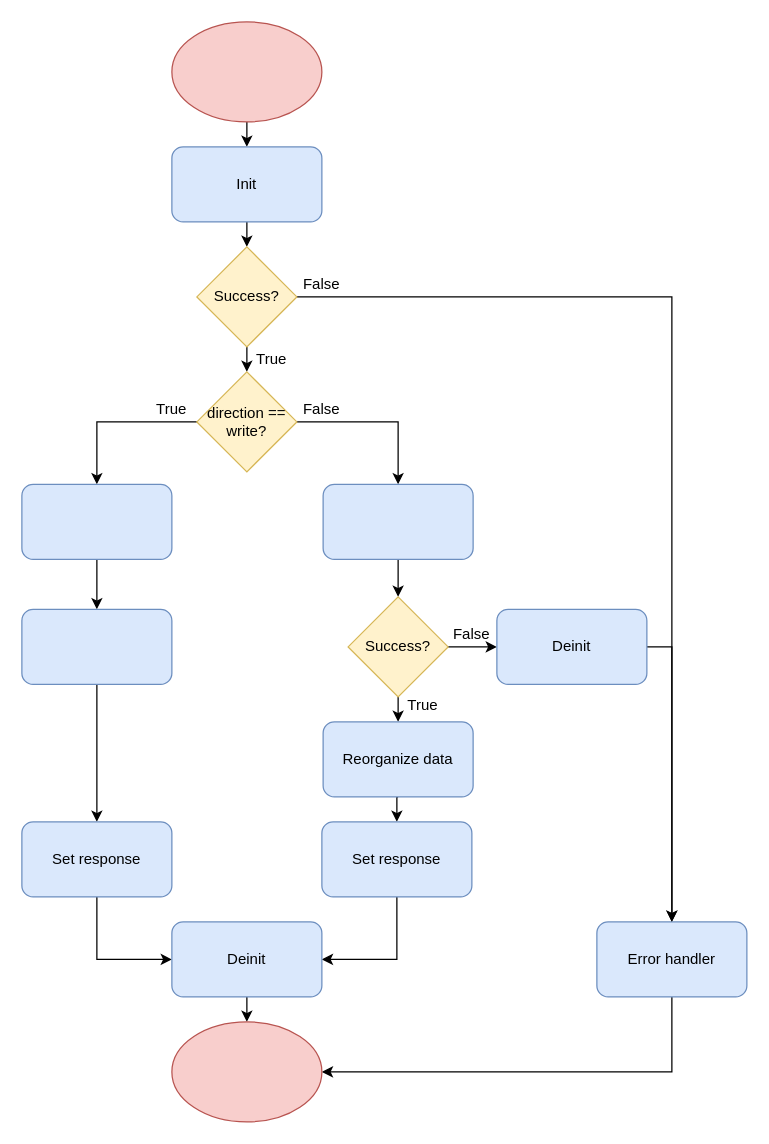
Some shapes in this 769 by 1144 pixel diagram are drawn without their labels. Here are the shapes that lost their labels. From the top down, the centre of each, then its label:
At pixel 246 71: "Start".
At pixel 96 521: "Fill buffer".
At pixel 397 521: "Read data via I2C".
At pixel 96 646: "Send data via I2C".
At pixel 246 1071: "Stop".
